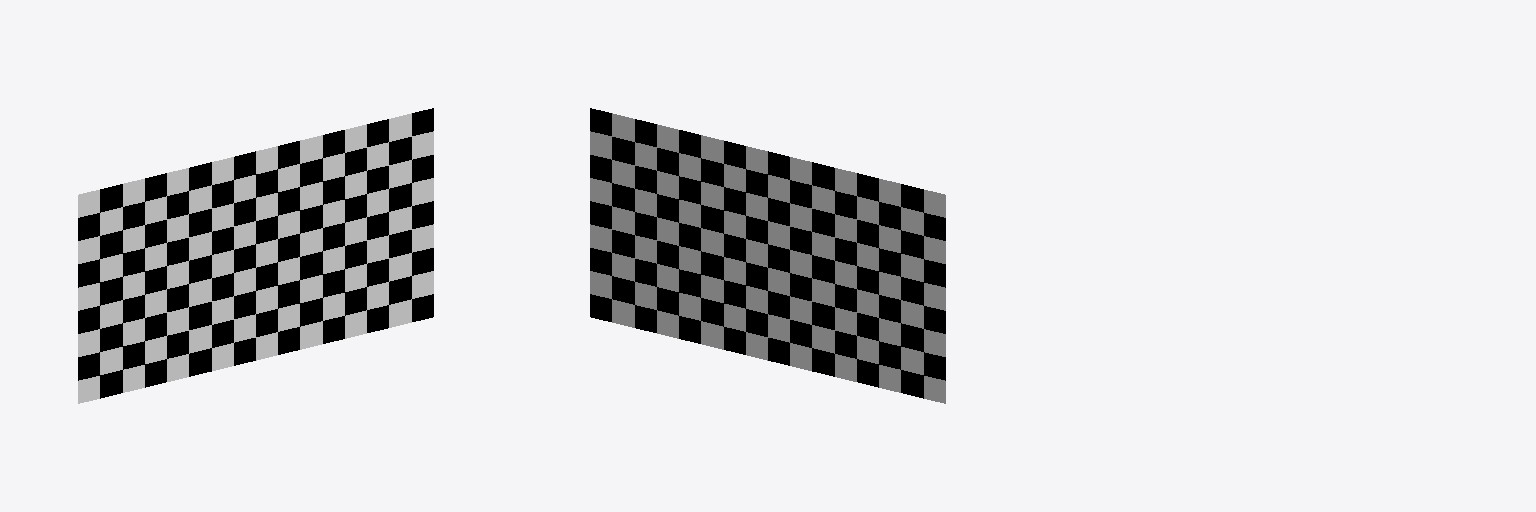
The picture shows the model from 3 angles: view 1: azimuth 30°, elevation 25°; view 2: azimuth 150°, elevation 25°; view 3: azimuth 270°, elevation 25°; orthographic projection.
Parts seen in each view (by area): view 1: 平面; view 2: 平面; view 3: none.
Part boxes in pixels (left/top/right/bottom): 平面: left=78, top=108, right=433, bottom=403; 平面: left=590, top=108, right=945, bottom=403.
Bounding box in the file's own units: 32 × 18 × 0.
1 materials, 1 textured.